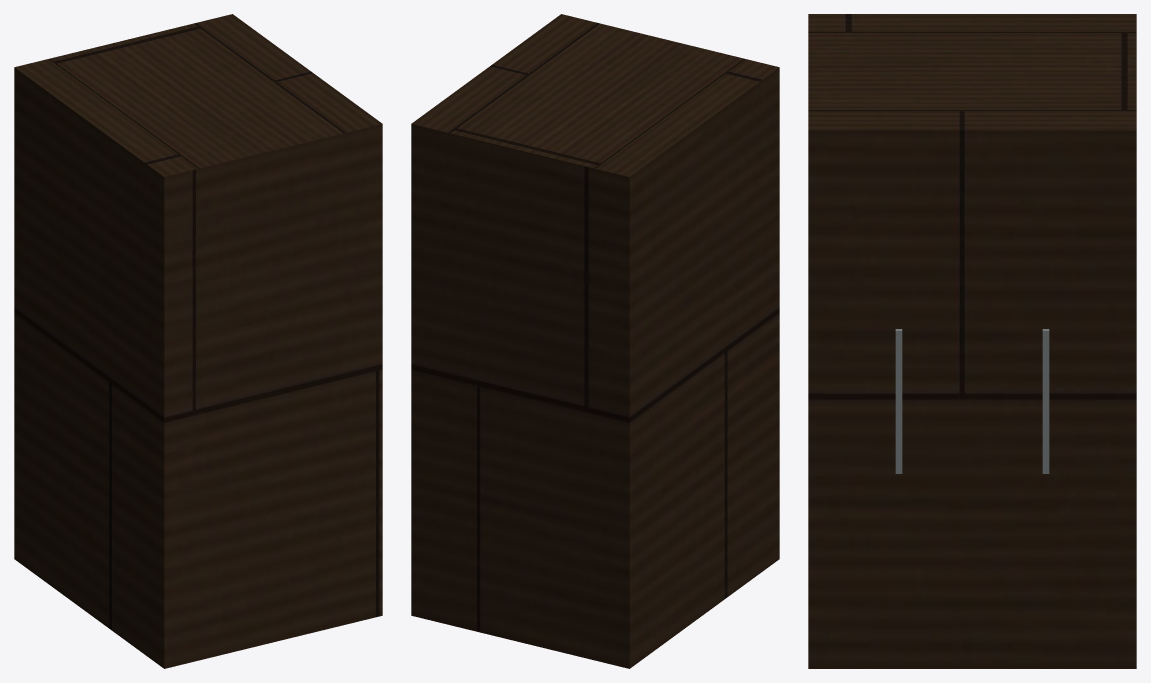
The model's file is wardrobe.glb.
The picture shows the model from 3 angles, left to right: view 1: azimuth 30°, elevation 25°; view 2: azimuth 150°, elevation 25°; view 3: azimuth 270°, elevation 25°; orthographic projection. The views are drawn at different scales.
Visible parts, largest first — view 1: Wardrobe; view 2: Wardrobe; view 3: Wardrobe, Wardrobe hinge, Wardrobe hinge.001.
Boxes of the visible parts, x1,y1,x2,y2 form: Wardrobe: [14, 14, 382, 668]; Wardrobe: [411, 14, 779, 668]; Wardrobe: [808, 14, 1136, 668]; Wardrobe hinge: [895, 329, 902, 473]; Wardrobe hinge.001: [1042, 329, 1049, 473].
Size of the model in its own units: 1.07 by 2.26 by 1.25.
Materials: 2 (1 with a texture image).
